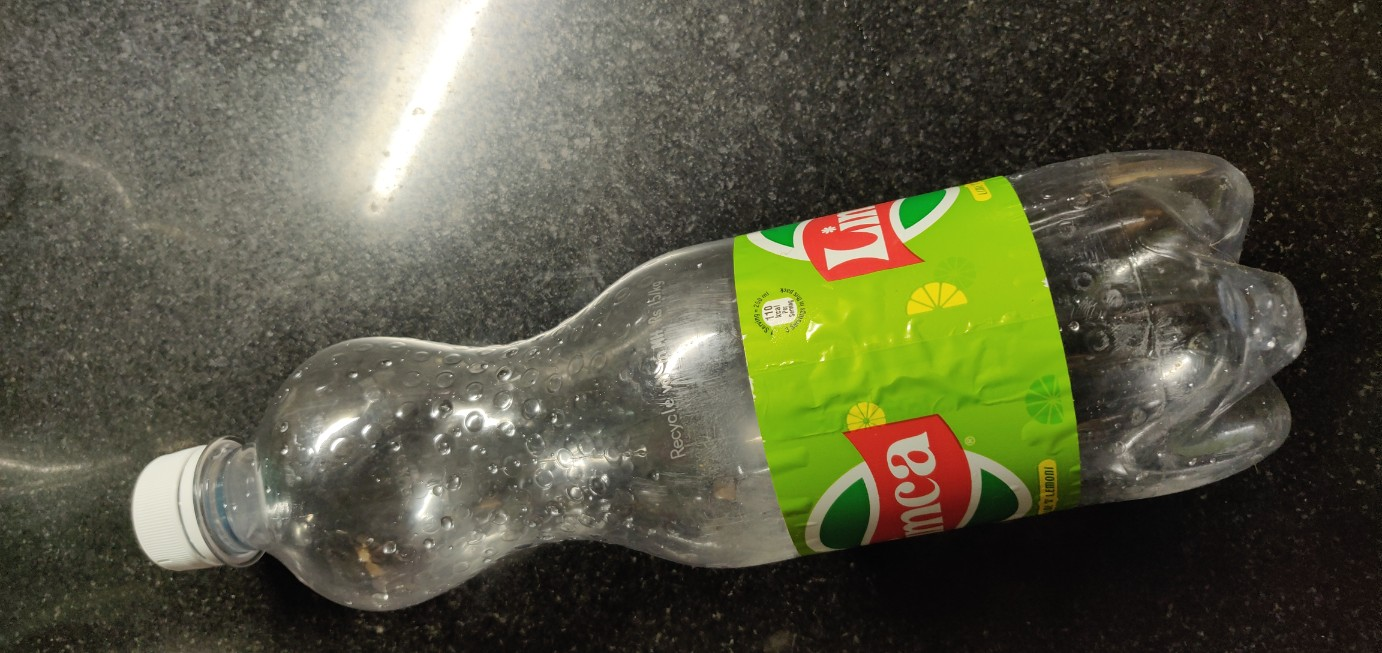Electronics: (91, 99, 1335, 630)
